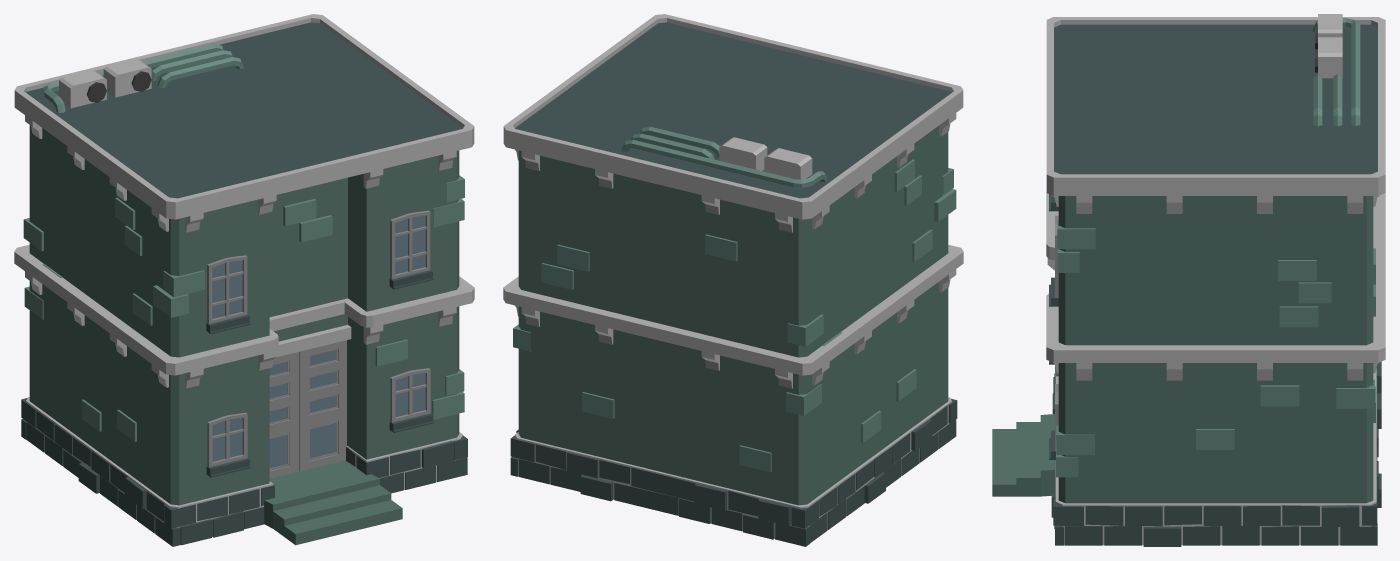
Rendered from 2Story_Center_Mat.gltf.
3 renders of one model, left to right at view 1: azimuth 30°, elevation 25°; view 2: azimuth 150°, elevation 25°; view 3: azimuth 270°, elevation 25°, orthographic. The views are drawn at different scales.
Visible parts, largest first — view 1: o 2Story_Center_Mat_Cube.020; view 2: o 2Story_Center_Mat_Cube.020; view 3: o 2Story_Center_Mat_Cube.020.
Boxes of the visible parts, left/top/right/bottom form: o 2Story_Center_Mat_Cube.020: left=14, top=14, right=474, bottom=546; o 2Story_Center_Mat_Cube.020: left=503, top=14, right=963, bottom=546; o 2Story_Center_Mat_Cube.020: left=992, top=14, right=1385, bottom=546.
Size of the model in its own units: 2.42 by 2.74 by 2.5.
